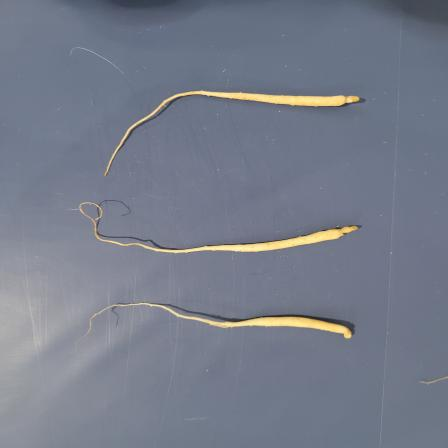Ginseng: (102, 90, 368, 180), (77, 198, 362, 254), (78, 300, 356, 343)
head: (335, 223, 358, 240), (338, 94, 362, 106), (337, 327, 354, 340)
